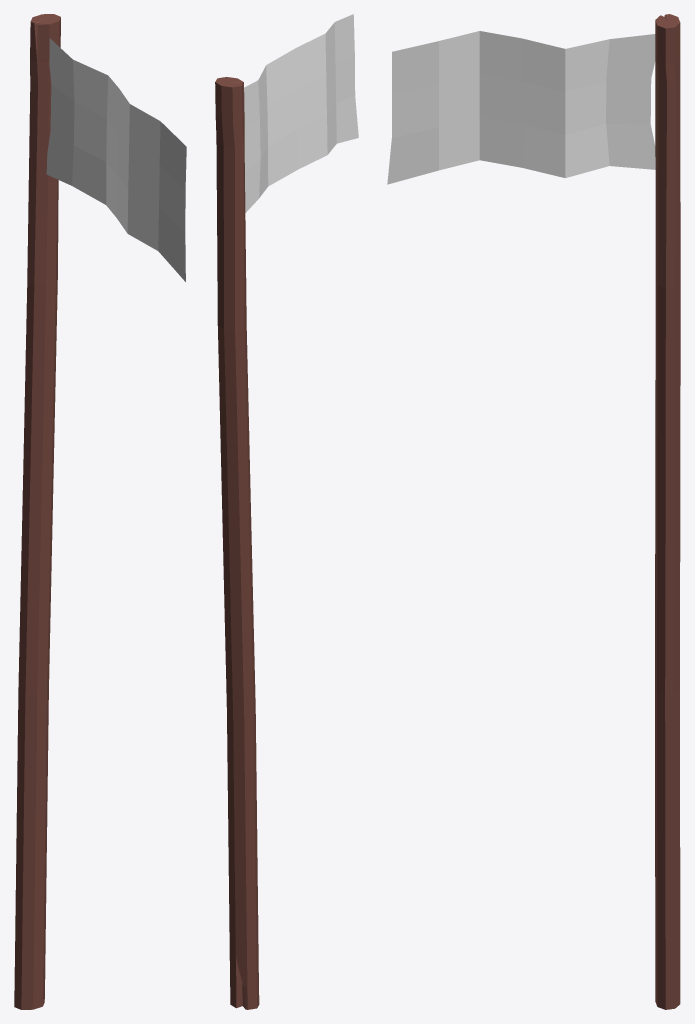
The model's file is Rilla_DEATH_flagofdeath.fbx.
3 renders of one model, left to right at view 1: azimuth 30°, elevation 25°; view 2: azimuth 150°, elevation 25°; view 3: azimuth 270°, elevation 25°, orthographic. The views are drawn at different scales.
Parts seen in each view (by area): view 1: Flag_Plane.003; view 2: Flag_Plane.003; view 3: Flag_Plane.003.
Boxes of the visible parts, x1,y1,x2,y2 form: Flag_Plane.003: [14, 14, 186, 1009]; Flag_Plane.003: [215, 14, 358, 1009]; Flag_Plane.003: [387, 14, 680, 1009].
Size of the model in its own units: 27.54 by 578 by 155.
